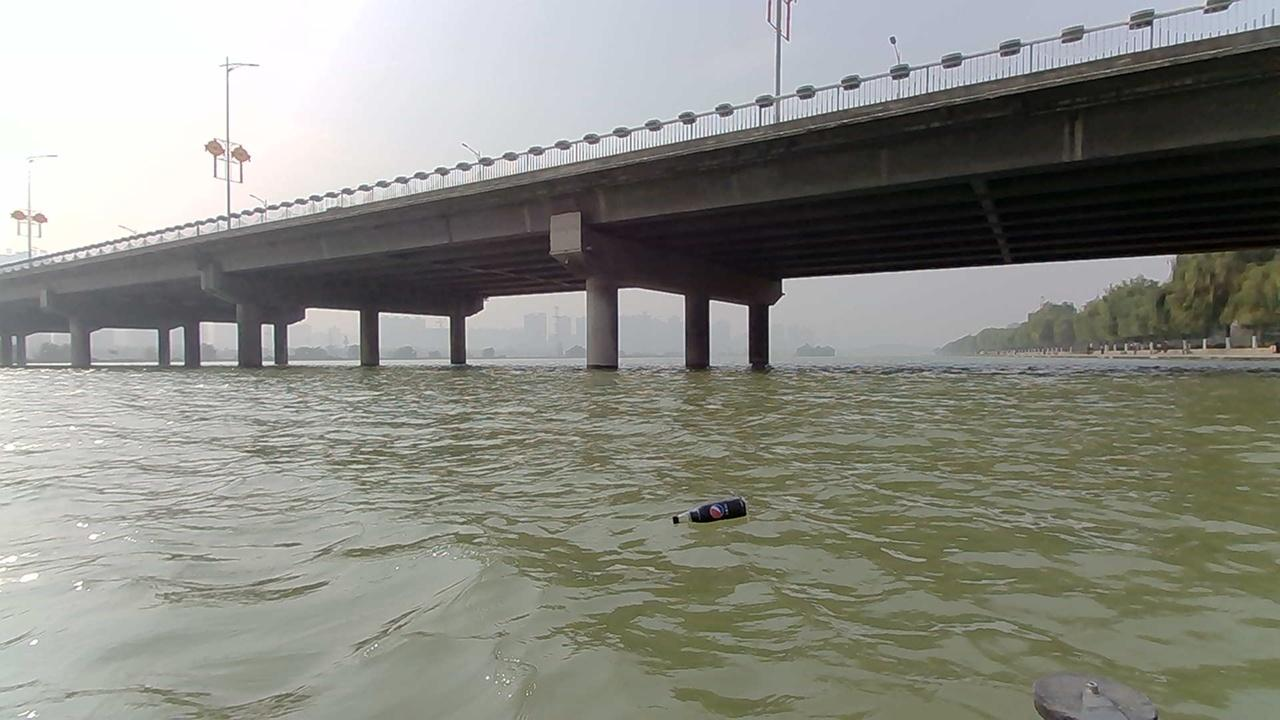bottle: (671, 497, 747, 524)
